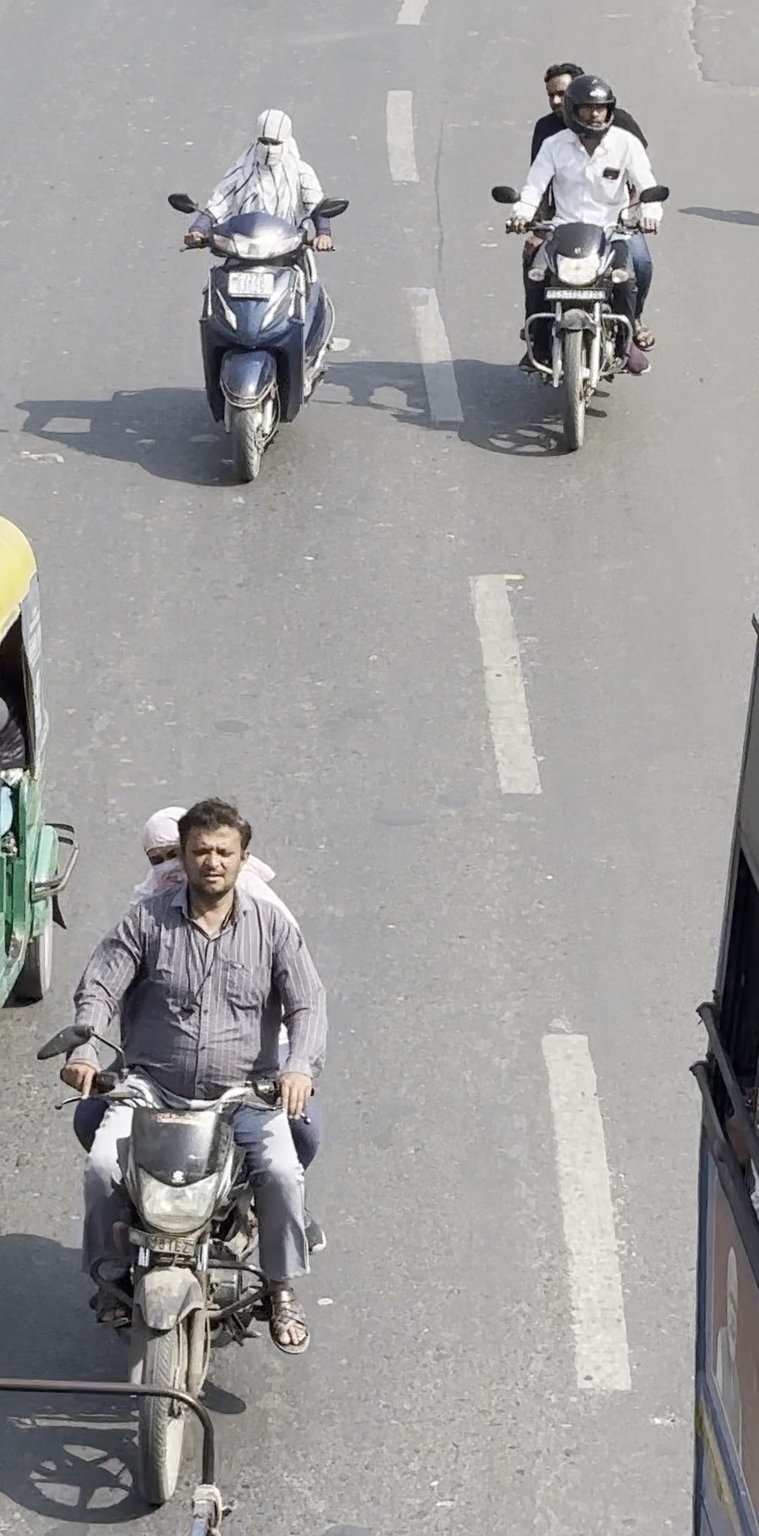BikeWithRider: (25, 785, 348, 1508), (468, 54, 680, 458), (154, 100, 348, 488)
Helmet: (564, 71, 630, 151)
NoHelmet: (126, 800, 222, 916), (169, 796, 261, 911), (237, 101, 308, 169), (536, 58, 601, 131)
